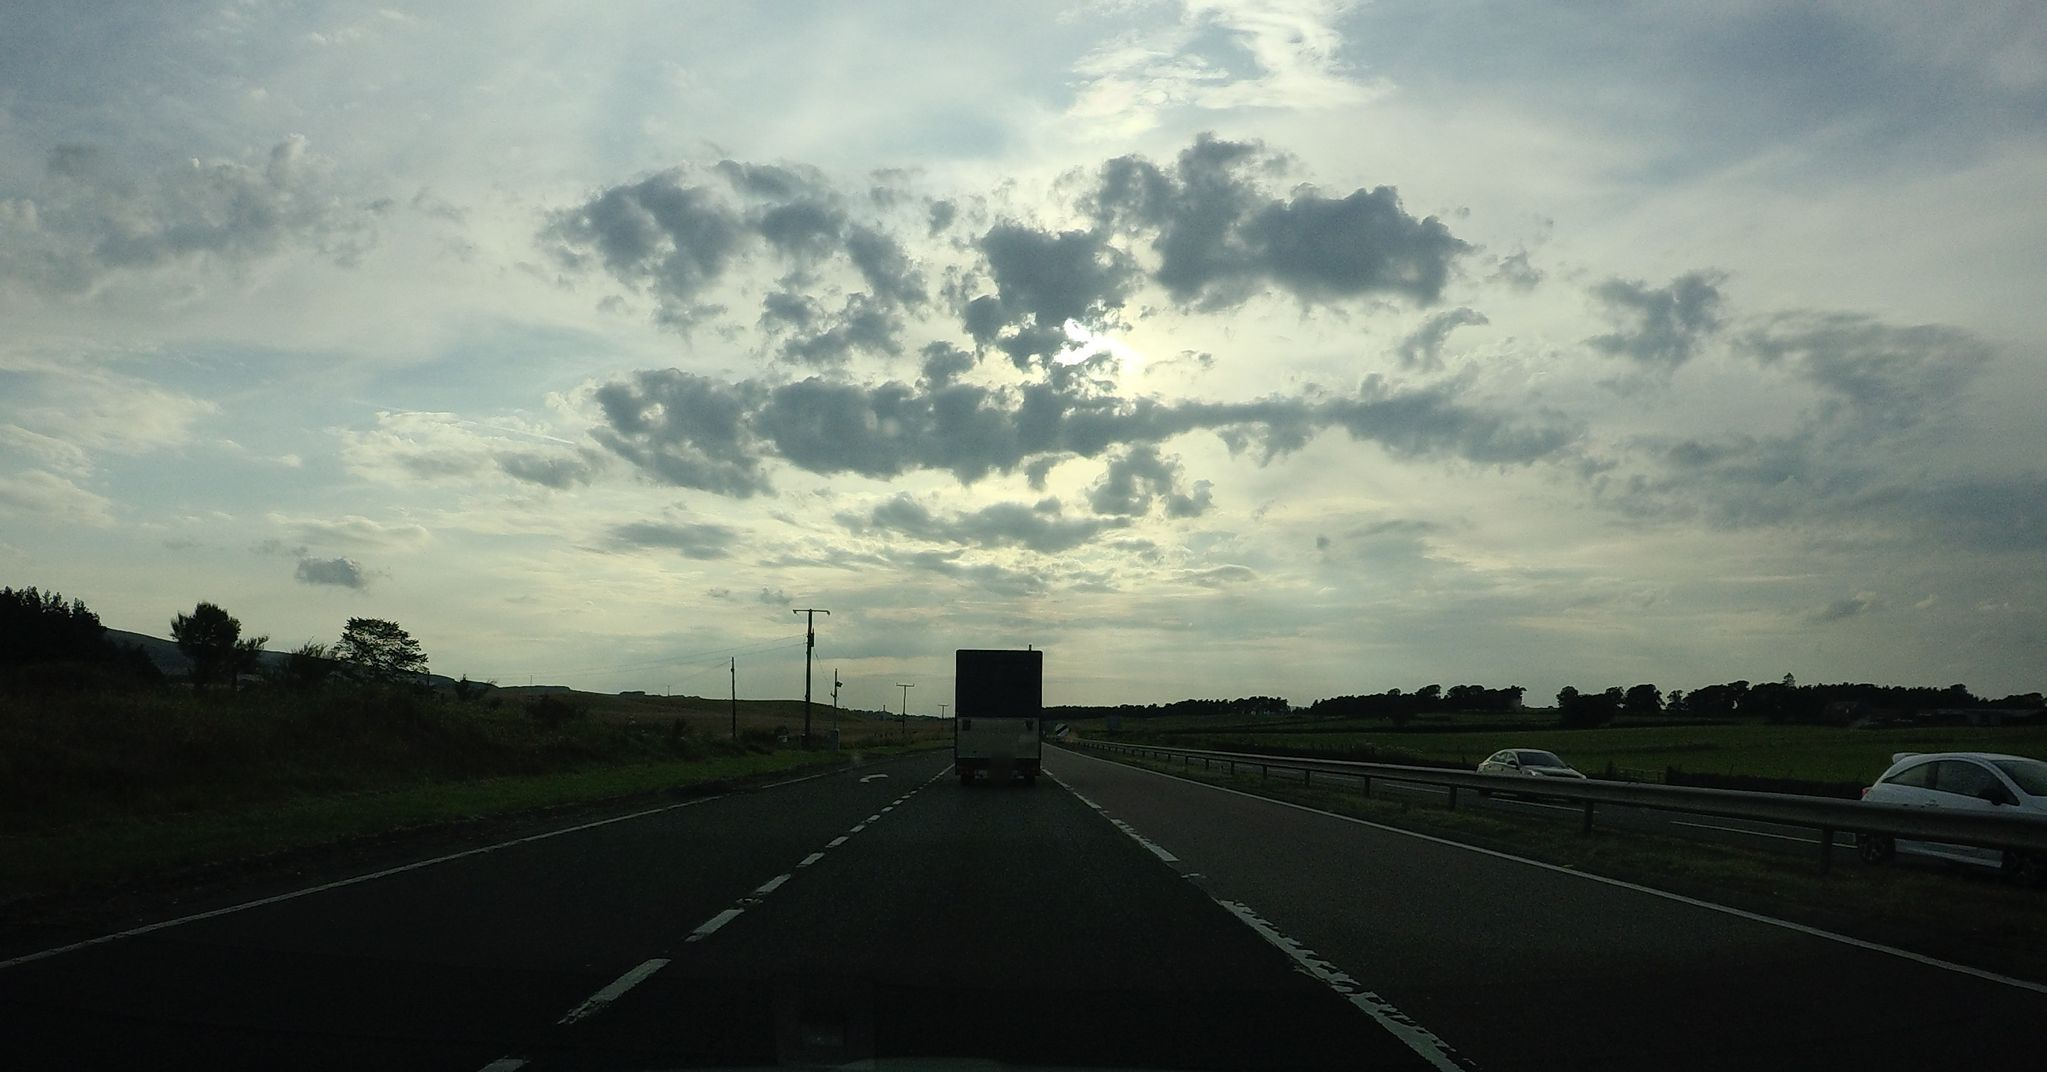car: (1853, 747, 2047, 885), (1474, 749, 1588, 803)
truck: (952, 644, 1045, 782)
